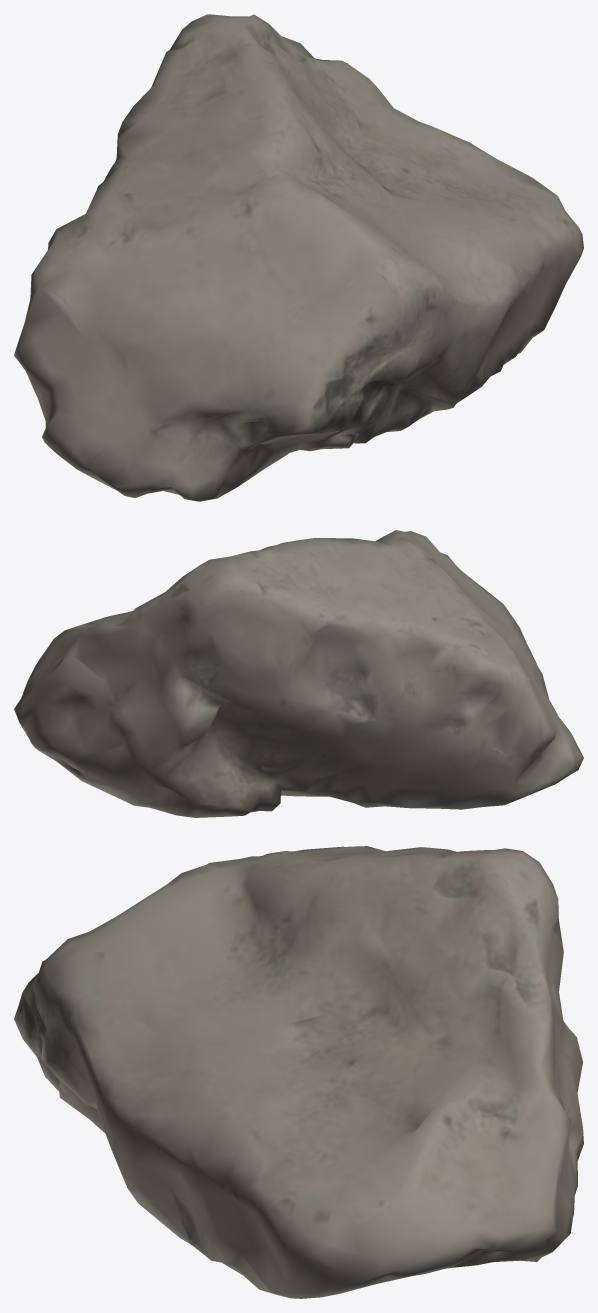
File: rock_moon_b.glb
3 views of the same model, one above another, from view 1: azimuth 30°, elevation 25°; view 2: azimuth 150°, elevation 25°; view 3: azimuth 270°, elevation 25° (orthographic). The views are drawn at different scales.
Visible parts, largest first — view 1: rock_moon_b; view 2: rock_moon_b; view 3: rock_moon_b.
Part boxes in pixels (<box>): rock_moon_b: <box>14,14,583,501</box>; rock_moon_b: <box>14,530,583,817</box>; rock_moon_b: <box>14,846,583,1298</box>.
Size of the model in its own units: 0.112 by 0.0582 by 0.0862.
1 material, 1 textured.
